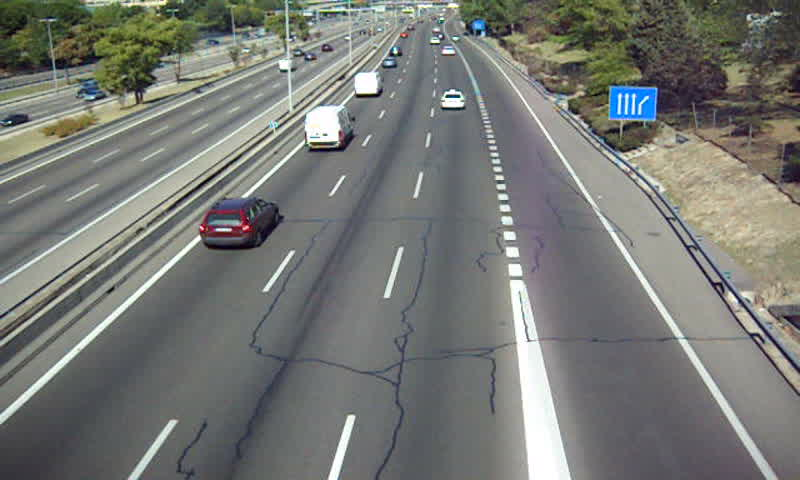car: (199, 199, 277, 249), (441, 90, 466, 110), (381, 57, 397, 69), (441, 45, 456, 56), (390, 45, 403, 57)
van: (305, 107, 352, 150), (352, 72, 382, 95)
